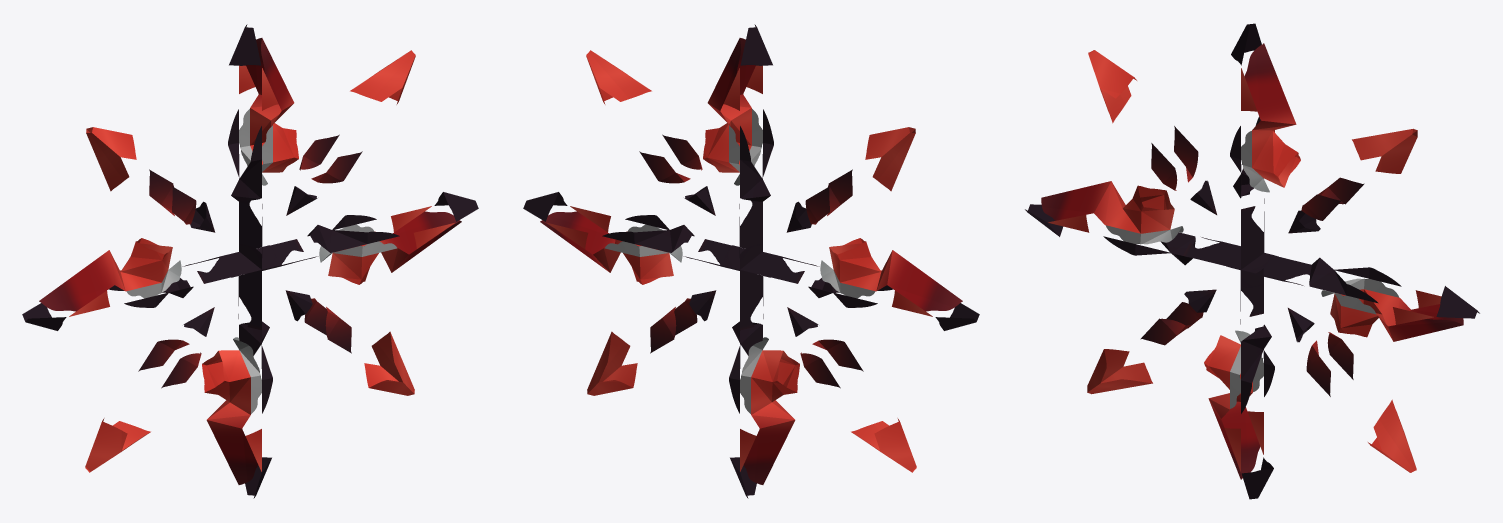
The model's file is moulinrouge.obj.
3 views of the same model, side by side, from view 1: azimuth 30°, elevation 25°; view 2: azimuth 150°, elevation 25°; view 3: azimuth 330°, elevation 25° (orthographic).
Bounding box in the file's own units: 59.68 × 59.68 × 5.
